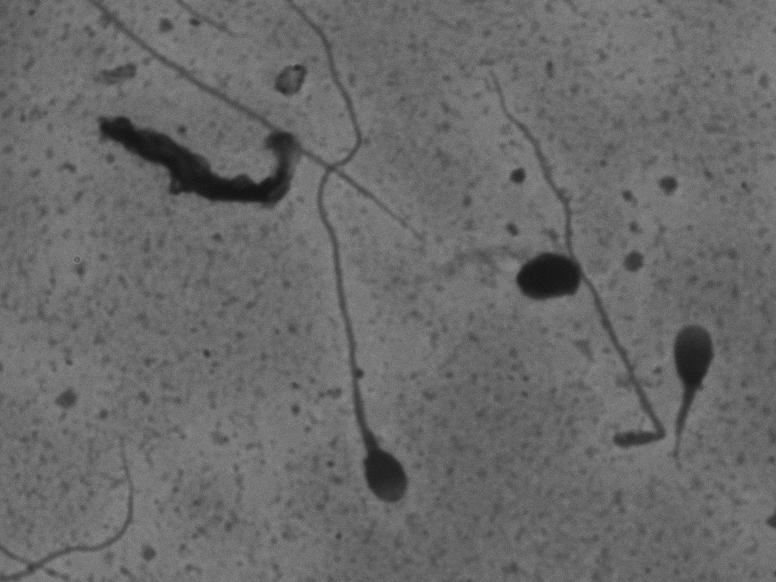Abnormal: (663, 309, 754, 477)
Normal: (296, 2, 420, 505)
